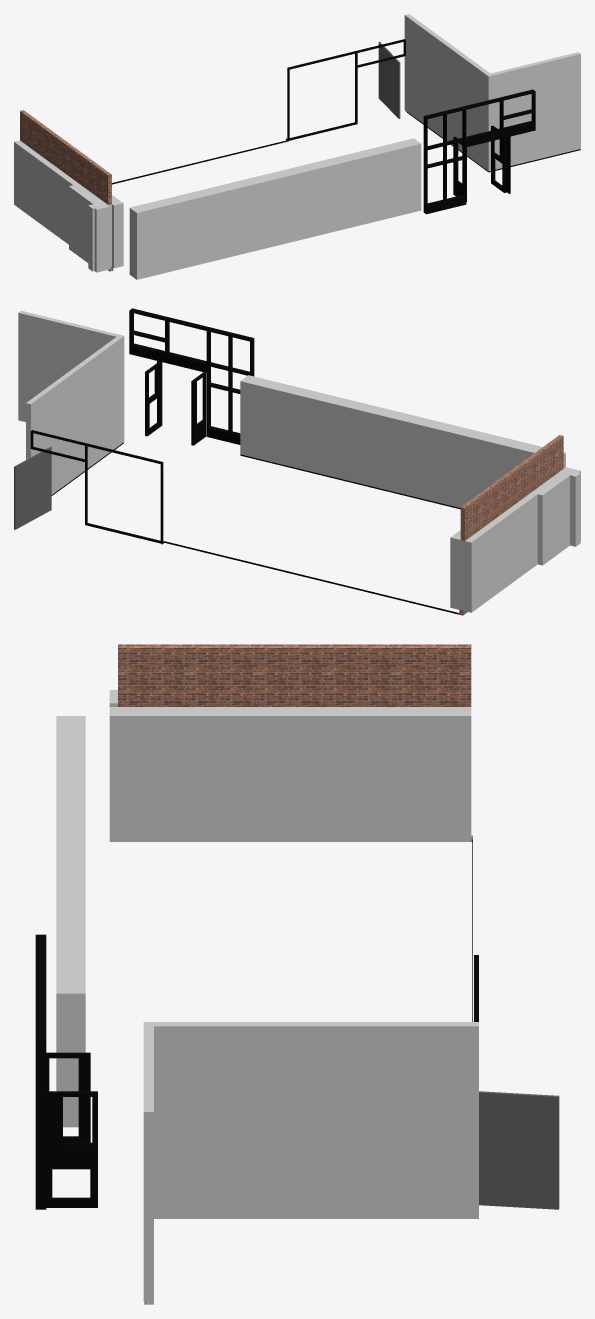
The model's file is In Class 2025 - Wall stuff.fbx.
3 renders of one model, top to bottom at view 1: azimuth 30°, elevation 25°; view 2: azimuth 150°, elevation 25°; view 3: azimuth 270°, elevation 25°, orthographic. The views are drawn at different scales.
Parts seen in each view (by area): view 1: Stucco Wall_2, Metal Frame, Brick Wall_2, Metal Door_2; view 2: Stucco Wall_2, Metal Frame, Brick Wall_2, Metal Door_2; view 3: Stucco Wall_2, Brick Wall_2, Metal Door_2, Metal Frame.
Part boxes in pixels (x1,y1,x2,y2): Stucco Wall_2: [14, 14, 580, 279]; Metal Frame: [112, 39, 580, 274]; Brick Wall_2: [20, 110, 113, 271]; Metal Door_2: [378, 41, 400, 118]; Stucco Wall_2: [18, 310, 580, 612]; Metal Frame: [30, 308, 460, 614]; Brick Wall_2: [458, 435, 563, 615]; Metal Door_2: [14, 446, 51, 529]; Stucco Wall_2: [56, 690, 478, 1304]; Brick Wall_2: [118, 644, 472, 841]; Metal Door_2: [479, 1091, 559, 1209]; Metal Frame: [35, 839, 478, 1304].
Size of the model in its own units: 774 by 355 by 144.
Materials: 4 (1 with a texture image).
